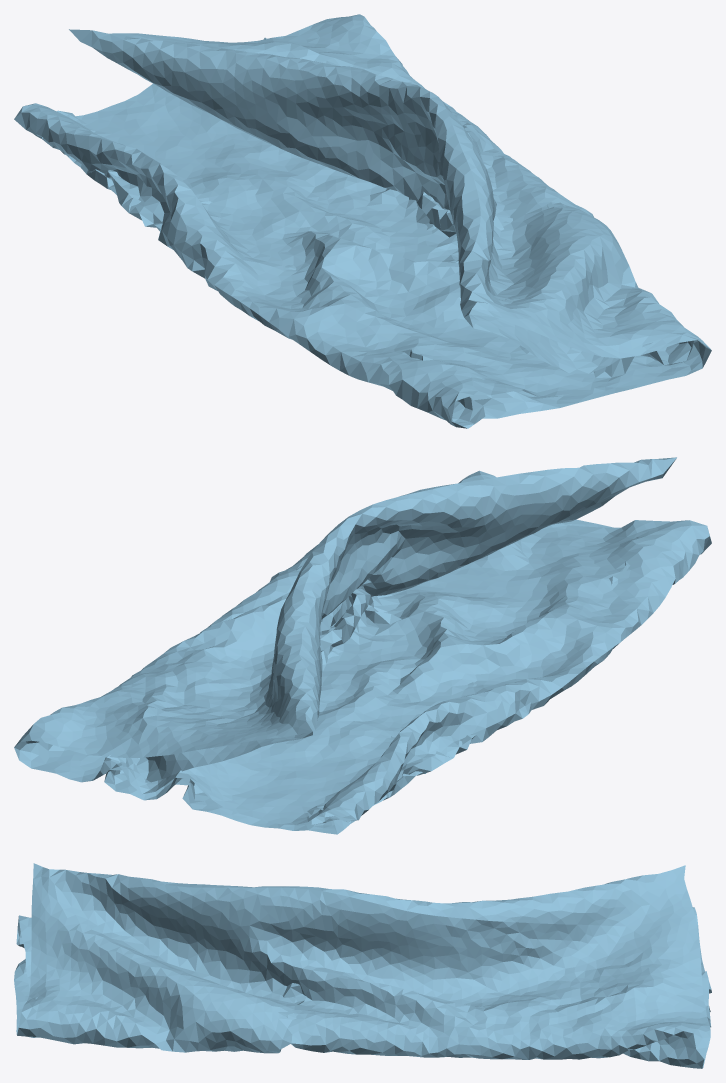
File: frame_19.glb
3 renders of one model, top to bottom at view 1: azimuth 30°, elevation 25°; view 2: azimuth 150°, elevation 25°; view 3: azimuth 270°, elevation 25°, orthographic. The views are drawn at different scales.
Parts seen in each view (by area): view 1: frame_19.obj; view 2: frame_19.obj; view 3: frame_19.obj.
Boxes of the visible parts, left/top/right/bottom form: frame_19.obj: left=14, top=14, right=711, bottom=428; frame_19.obj: left=14, top=457, right=711, bottom=834; frame_19.obj: left=14, top=863, right=711, bottom=1068.
Size of the model in its own units: 0.811 by 0.3189 by 1.6.
